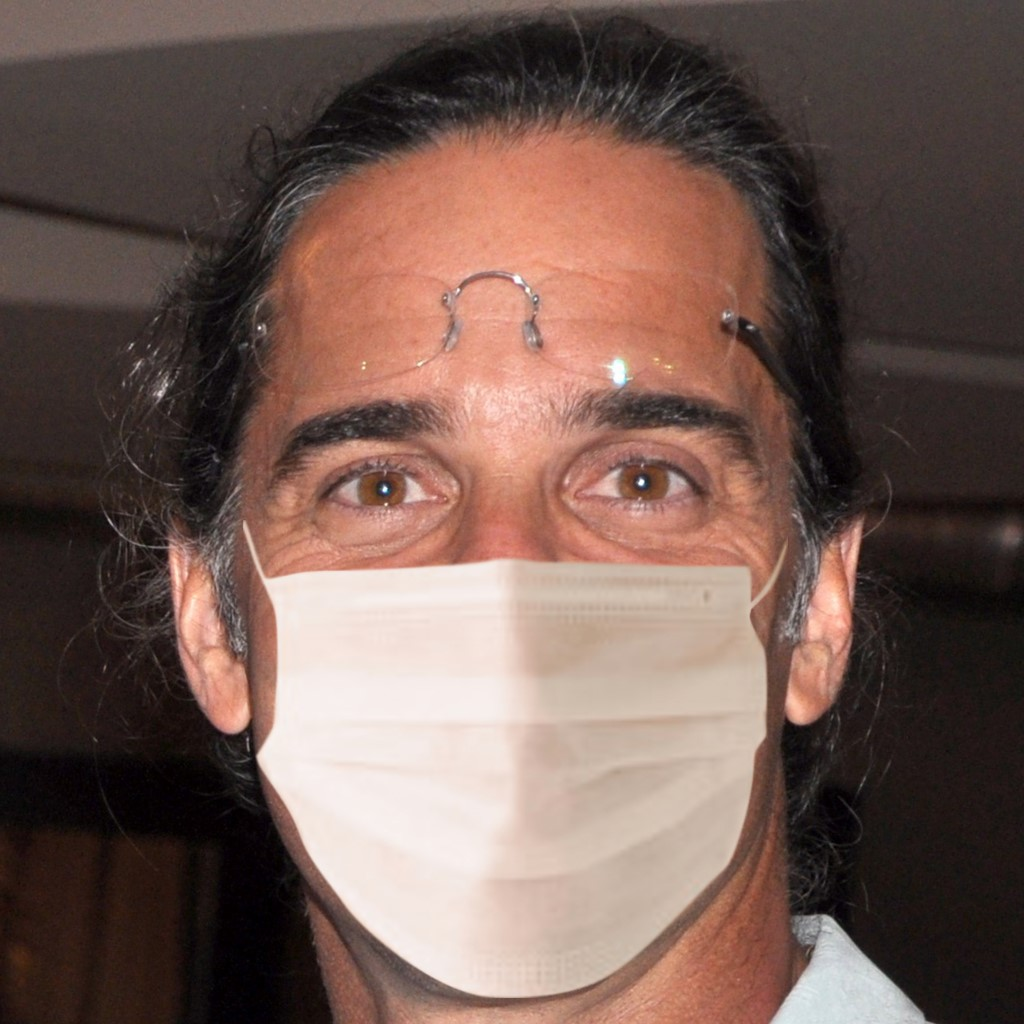con_mascara: (238, 185, 803, 964)
